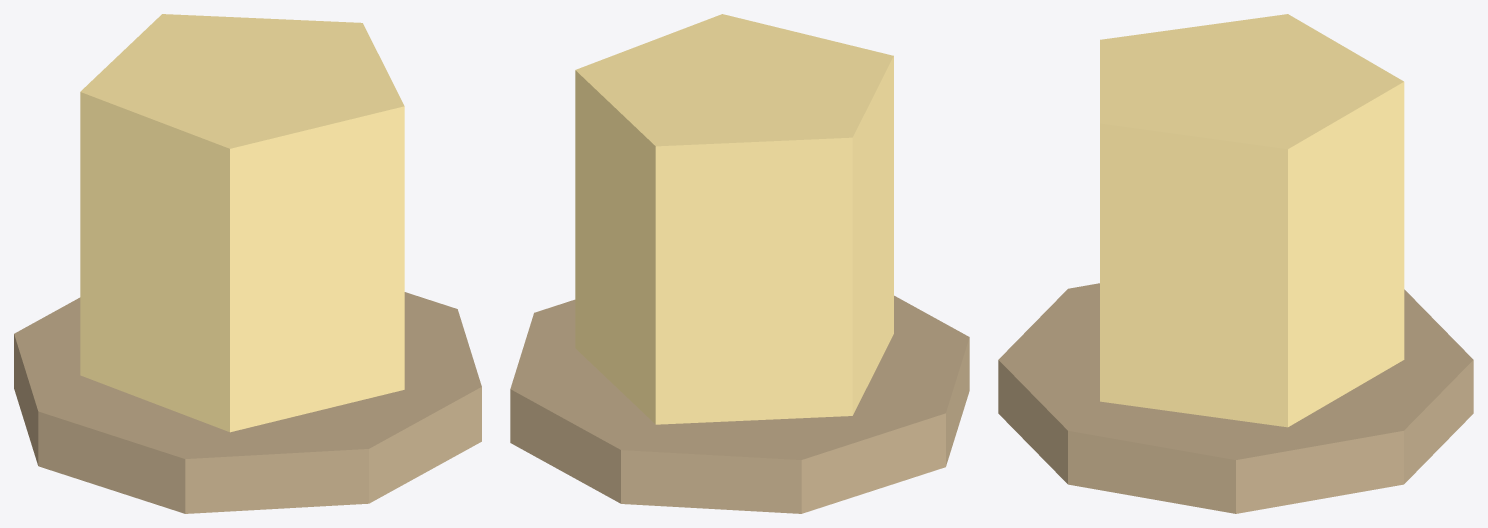
File: SM_BidonFuego_v0_Solo_LOD1.fbx
3 renders of one model, left to right at view 1: azimuth 30°, elevation 25°; view 2: azimuth 150°, elevation 25°; view 3: azimuth 270°, elevation 25°, orthographic.
Parts seen in each view (by area): view 1: Emision; view 2: Emision; view 3: Emision.
Boxes of the visible parts, x1,y1,x2,y2 form: Emision: (14, 14, 481, 513); Emision: (510, 14, 969, 513); Emision: (998, 14, 1473, 513).
Size of what is drawn, in the model's own units: 0.48 by 0.37 by 0.48.
